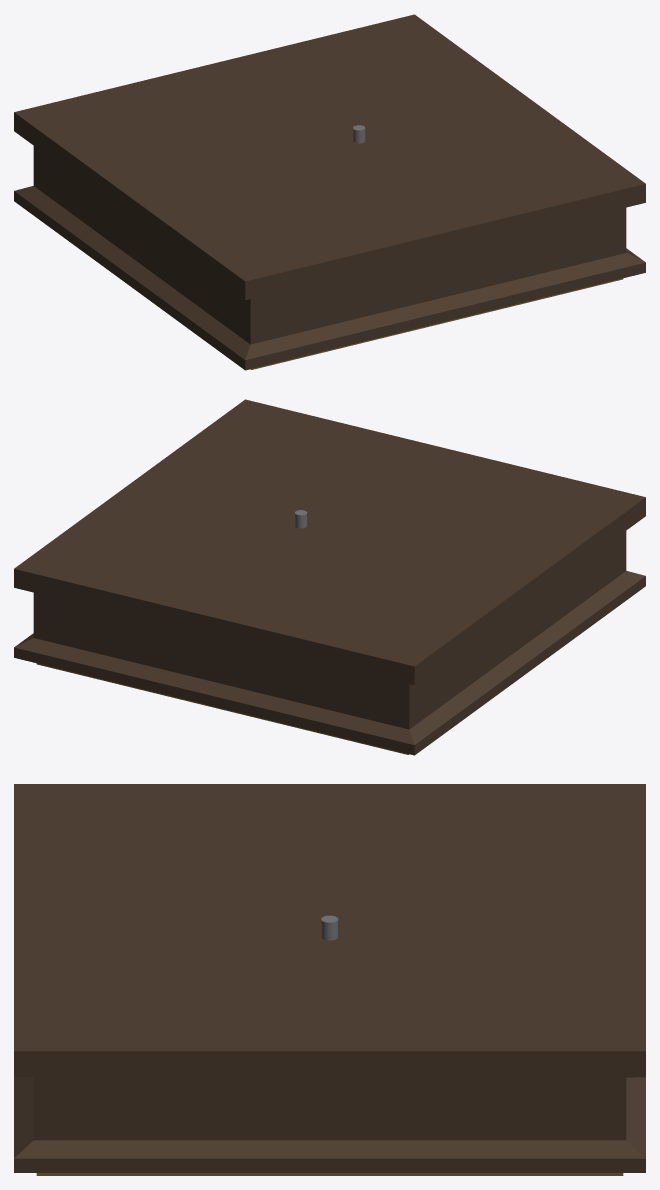
File: Bagian bawah.fbx
The picture shows the model from 3 angles, top to bottom: view 1: azimuth 30°, elevation 25°; view 2: azimuth 150°, elevation 25°; view 3: azimuth 270°, elevation 25°; orthographic projection. The views are drawn at different scales.
Visible parts, largest first — view 1: Cube, Cube.001; view 2: Cube, Cube.001; view 3: Cube, Cube.001.
Boxes of the visible parts, <box> form: Cube: <box>14,14,645,370</box>; Cube.001: <box>251,278,623,369</box>; Cube: <box>14,399,645,755</box>; Cube.001: <box>36,663,408,754</box>; Cube: <box>14,784,645,1172</box>; Cube.001: <box>36,1173,623,1175</box>.
Size of the model in its own units: 200 by 53.11 by 200.
